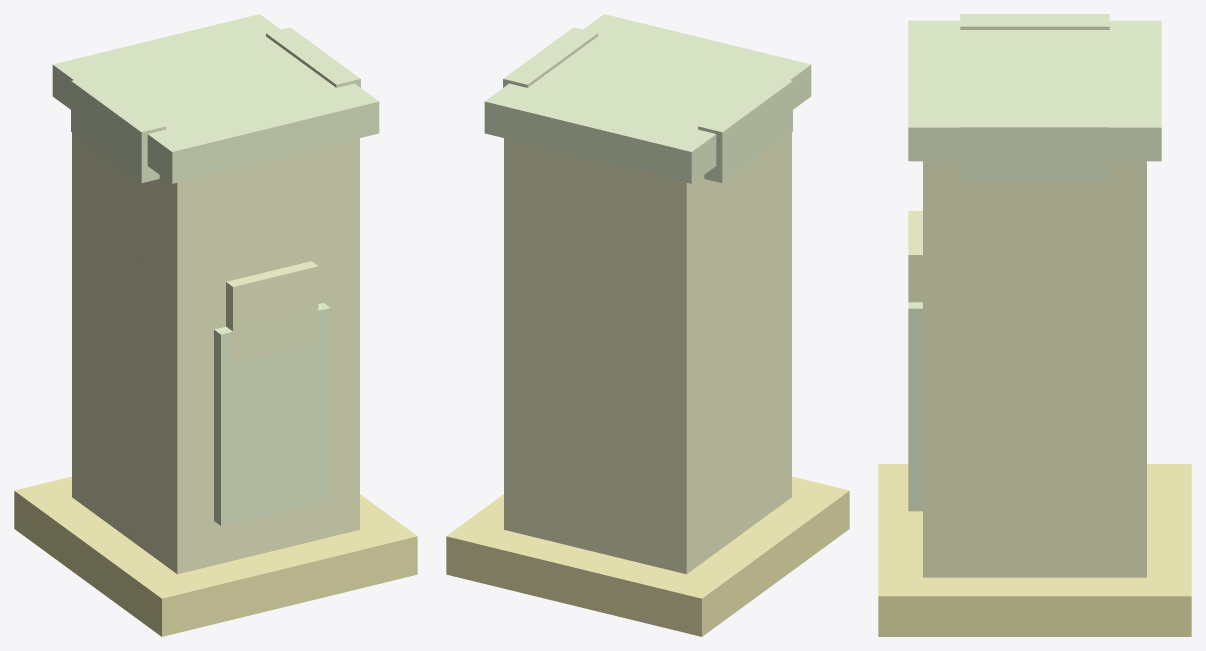
File: furniture_shelter_trash_receptacle.glb
3 views of the same model, side by side, from view 1: azimuth 30°, elevation 25°; view 2: azimuth 150°, elevation 25°; view 3: azimuth 270°, elevation 25° (orthographic). The views are drawn at different scales.
Parts seen in each view (by area): view 1: body, lid, pad, door, opening, cap_left, cap_right; view 2: body, lid, pad, cap_left, cap_right; view 3: body, pad, lid, cap_right, door, cap_left, opening.
Part boxes in pixels (left/top/right/bottom): body: left=72, top=133, right=359, bottom=574; lid: left=52, top=14, right=379, bottom=183; pad: left=14, top=476, right=417, bottom=636; door: left=214, top=303, right=330, bottom=525; opening: left=226, top=261, right=318, bottom=363; cap_left: left=71, top=75, right=165, bottom=183; cap_right: left=266, top=27, right=360, bottom=87; body: left=504, top=133, right=791, bottom=574; lid: left=484, top=14, right=811, bottom=183; pad: left=446, top=476, right=849, bottom=636; cap_left: left=698, top=75, right=792, bottom=183; cap_right: left=503, top=27, right=597, bottom=87; body: left=923, top=161, right=1146, bottom=577; pad: left=878, top=464, right=1191, bottom=636; lid: left=908, top=20, right=1161, bottom=161; cap_right: left=960, top=115, right=1109, bottom=181; door: left=908, top=302, right=922, bottom=511; cap_left: left=960, top=14, right=1109, bottom=29; opening: left=908, top=211, right=922, bottom=302.
Size of the model in its own units: 0.42 by 0.74 by 0.42.
